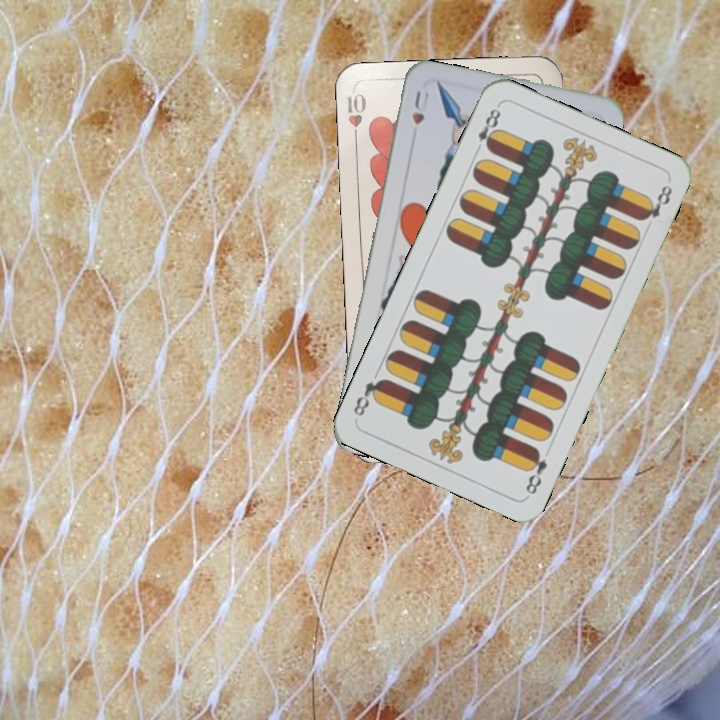E8: (470, 104, 504, 157), (521, 444, 551, 497)
H10: (342, 88, 369, 147)
HU: (408, 87, 432, 127)
